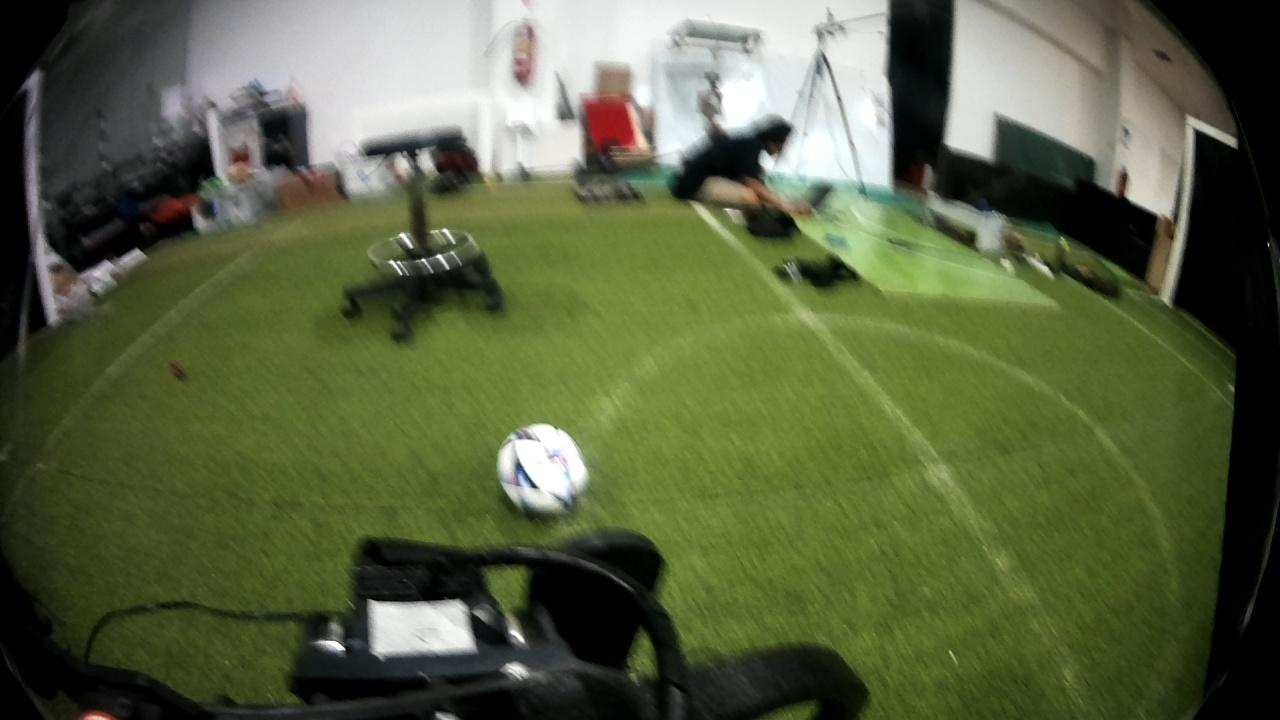ball: (486, 412, 591, 522)
